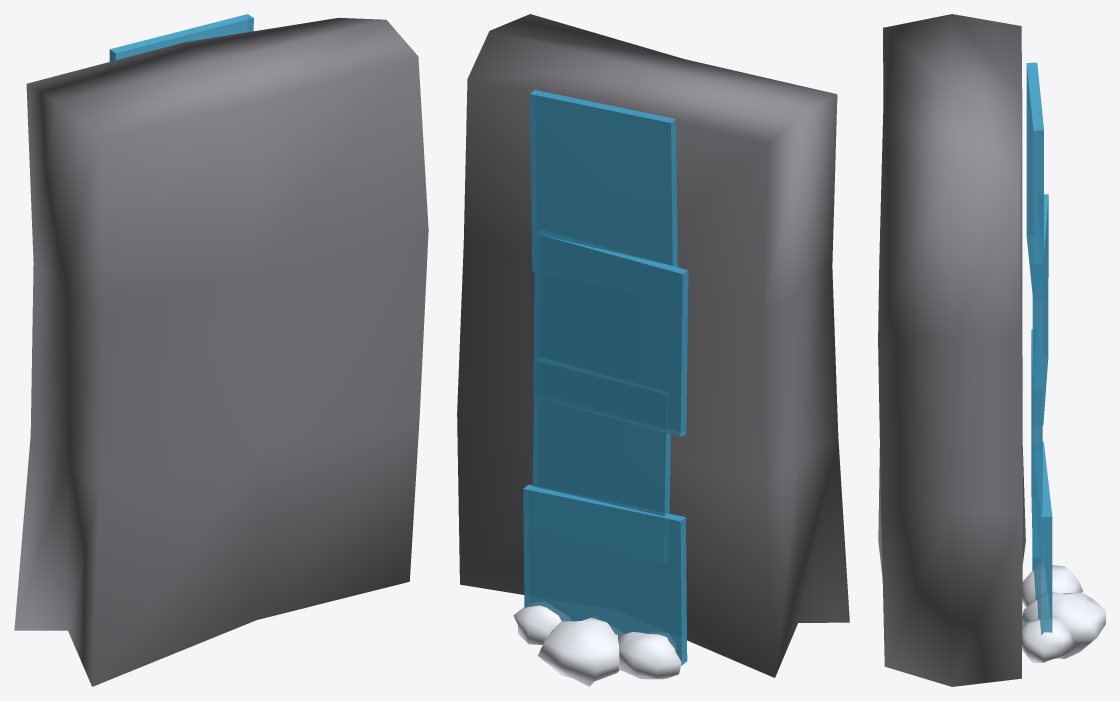
The model's file is waterfall.glb.
3 renders of one model, left to right at view 1: azimuth 30°, elevation 25°; view 2: azimuth 150°, elevation 25°; view 3: azimuth 270°, elevation 25°, orthographic. The views are drawn at different scales.
Parts seen in each view (by area): view 1: Cliff, Sheet0; view 2: Cliff, Sheet0, Sheet1, Sheet2, Sheet3, Foam1, Foam0, Foam2; view 3: Cliff, Sheet0, Sheet1, Sheet3, Foam1, Sheet2, Foam2, Foam0.
Boxes of the visible parts, x1,y1,x2,y2 form: Cliff: (14, 18, 428, 686); Sheet0: (109, 14, 253, 61); Cliff: (457, 14, 849, 677); Sheet0: (530, 90, 677, 298); Sheet1: (533, 230, 688, 436); Sheet2: (532, 357, 670, 562); Sheet3: (523, 484, 687, 665); Foam1: (537, 617, 623, 686); Foam0: (618, 632, 681, 679); Foam2: (513, 602, 570, 644); Cliff: (878, 14, 1025, 686); Sheet0: (1026, 62, 1043, 302); Sheet1: (1032, 194, 1048, 425); Sheet3: (1032, 442, 1052, 634); Foam1: (1022, 592, 1105, 658); Sheet2: (1031, 329, 1042, 557); Foam2: (1022, 616, 1073, 662); Foam0: (1022, 565, 1082, 607).
Bounding box in the file's own units: 10.43 × 17.43 × 6.43.
